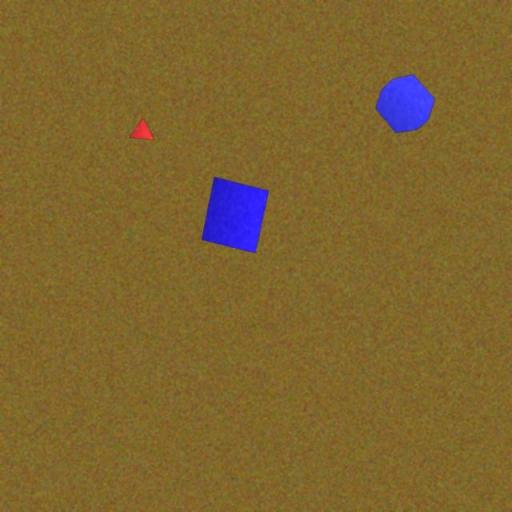BLUE_SQUARE: (200, 176, 270, 254)
